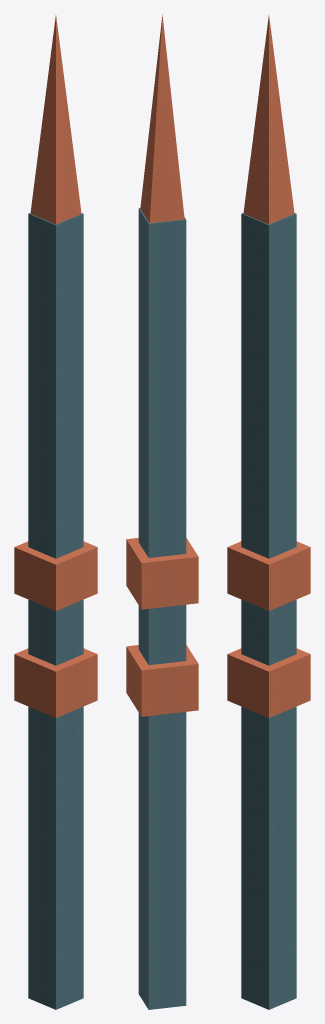
Rendered from atlas100-s042-a05.lod2.glb.
3 views of the same model, side by side, from view 1: azimuth 90°, elevation 25°; view 2: azimuth 150°, elevation 25°; view 3: azimuth 270°, elevation 25° (orthographic).
Parts seen in each view (by area): view 1: atlas100-s042-a05:part-000, atlas100-s042-a05:part-004, atlas100-s042-a05:part-002, atlas100-s042-a05:part-003; view 2: atlas100-s042-a05:part-000, atlas100-s042-a05:part-004, atlas100-s042-a05:part-002, atlas100-s042-a05:part-003; view 3: atlas100-s042-a05:part-000, atlas100-s042-a05:part-004, atlas100-s042-a05:part-002, atlas100-s042-a05:part-003.
Part boxes in pixels (box(x1,y1,x2,y2)): atlas100-s042-a05:part-000: box(28, 213, 83, 1009); atlas100-s042-a05:part-004: box(30, 15, 81, 224); atlas100-s042-a05:part-002: box(14, 648, 97, 717); atlas100-s042-a05:part-003: box(14, 541, 97, 610); atlas100-s042-a05:part-000: box(138, 208, 186, 1009); atlas100-s042-a05:part-004: box(140, 14, 184, 223); atlas100-s042-a05:part-002: box(126, 645, 198, 716); atlas100-s042-a05:part-003: box(126, 538, 198, 609); atlas100-s042-a05:part-000: box(241, 213, 296, 1009); atlas100-s042-a05:part-004: box(243, 15, 294, 224); atlas100-s042-a05:part-002: box(227, 648, 310, 717); atlas100-s042-a05:part-003: box(227, 541, 310, 610).
Size of the model in its own units: 0.1158 by 1.51 by 0.1158.
Materials: 2 (2 with a texture image).
